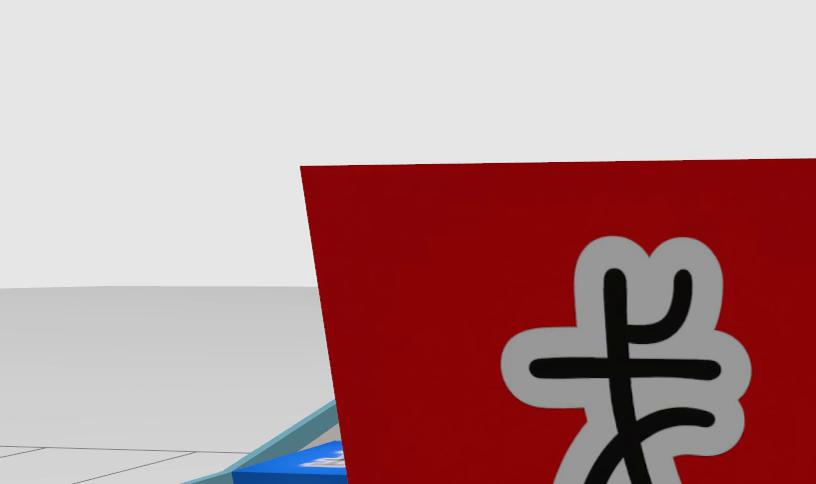KFS_FAKE: (302, 159, 815, 483), (501, 237, 750, 483)
KFS_REAL: (231, 440, 347, 483)
